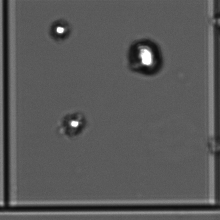Living Cell: (134, 43, 156, 68), (53, 22, 67, 37), (66, 117, 81, 131)
